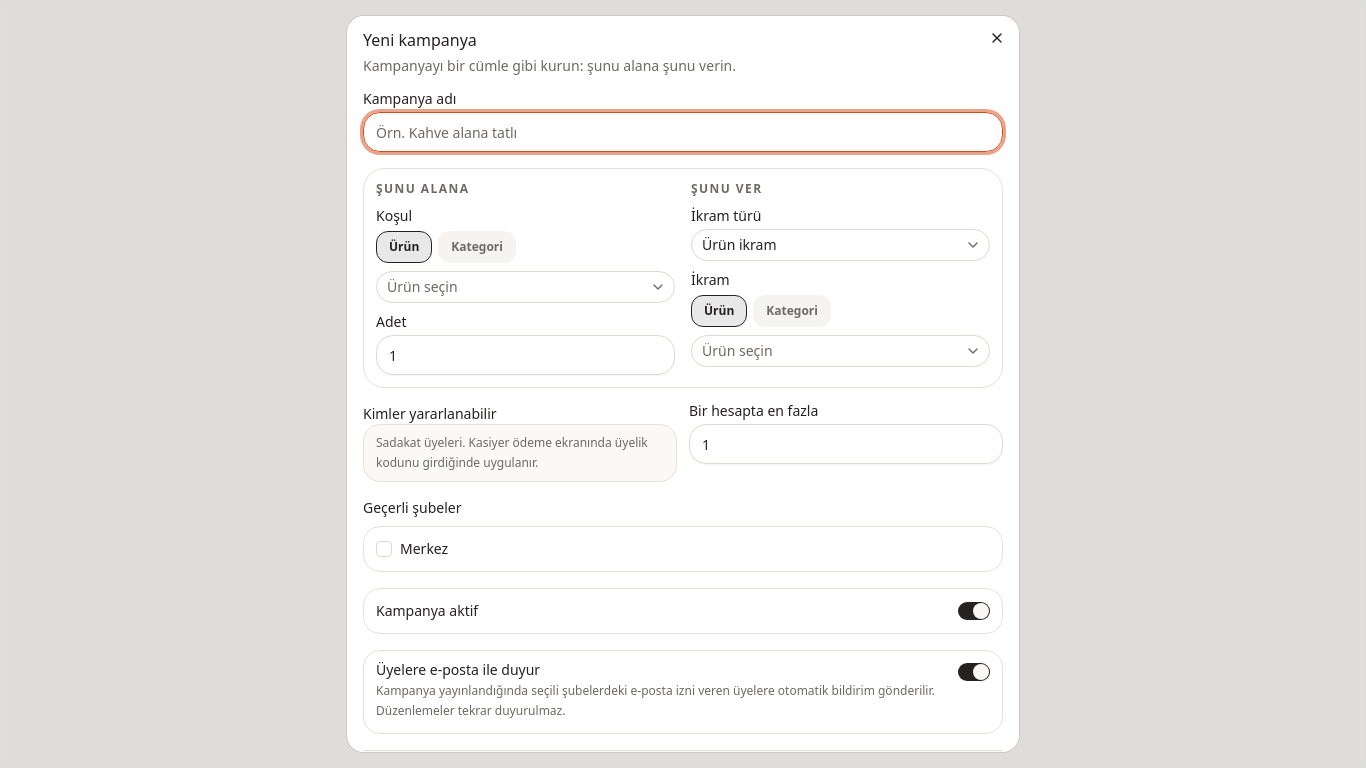
CampaignFormDialog › asks for a value when the reward is a discount rather than a free item
This screenshot has width=1366, height=768.
Expected: the field labelled "Kampanya adı" is shown, 363,112 -> 1003,152
Expected: the field labelled "Yüzde (%)" is not shown
Click the dropdown named "İkram türü" at (739, 244), box 691,229 -> 990,261
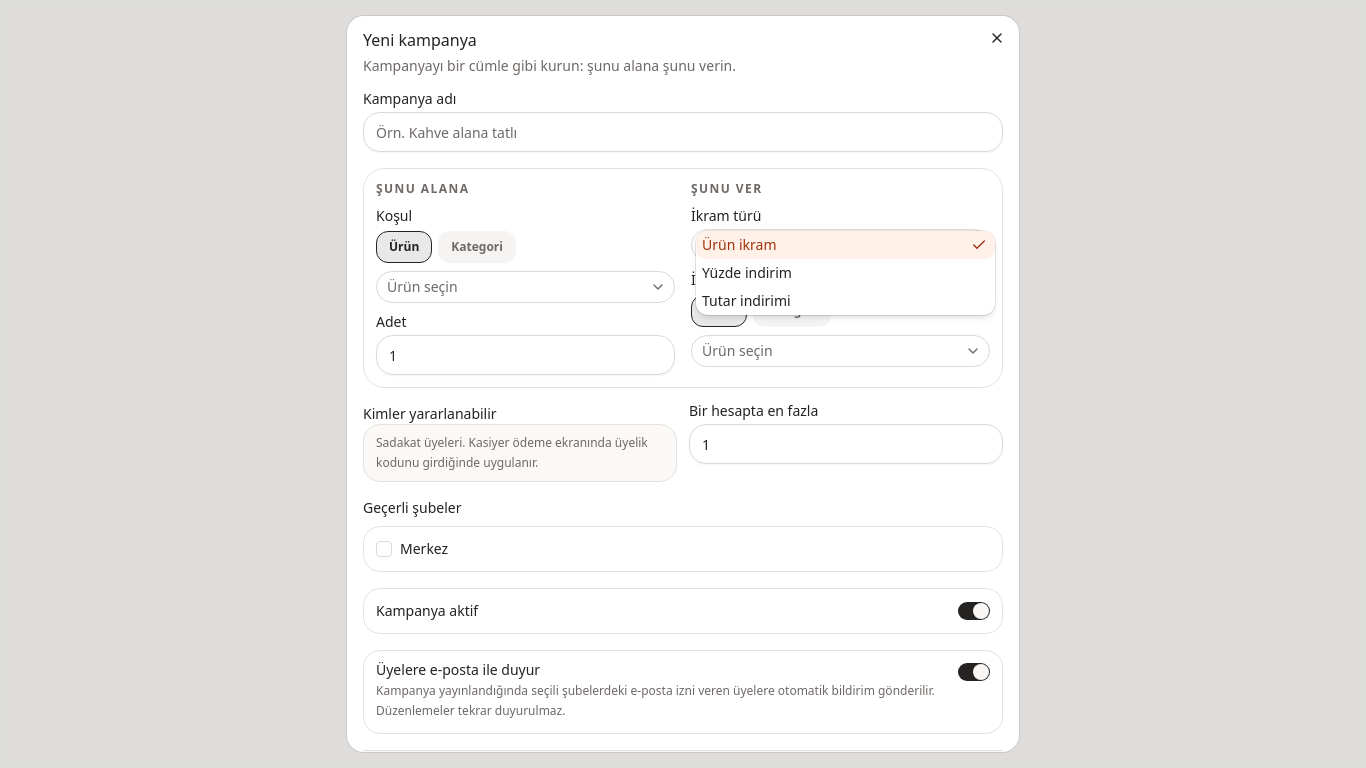
Click the option "Yüzde indirim" at (747, 272), box 702,263 -> 792,282
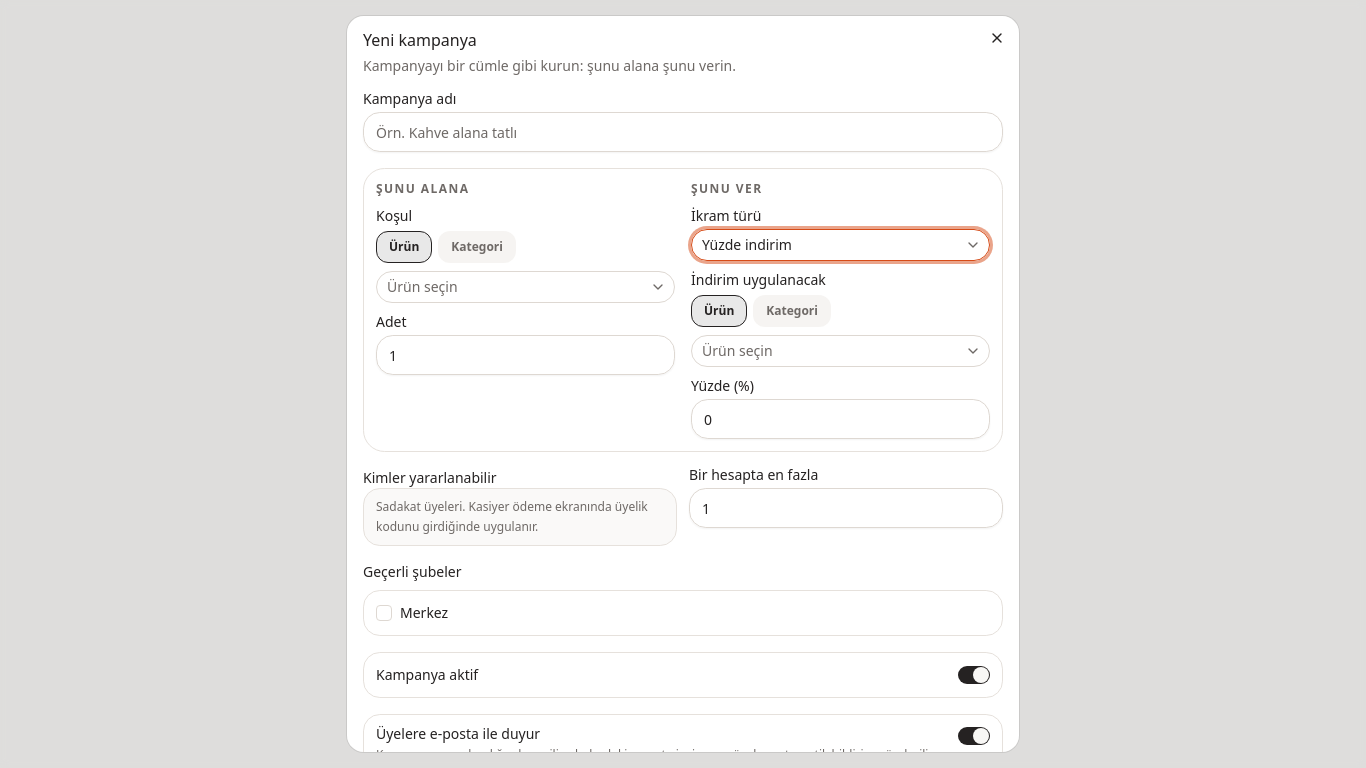
Expected: the number field labelled "Yüzde (%)" is shown, 691,399 -> 990,439
